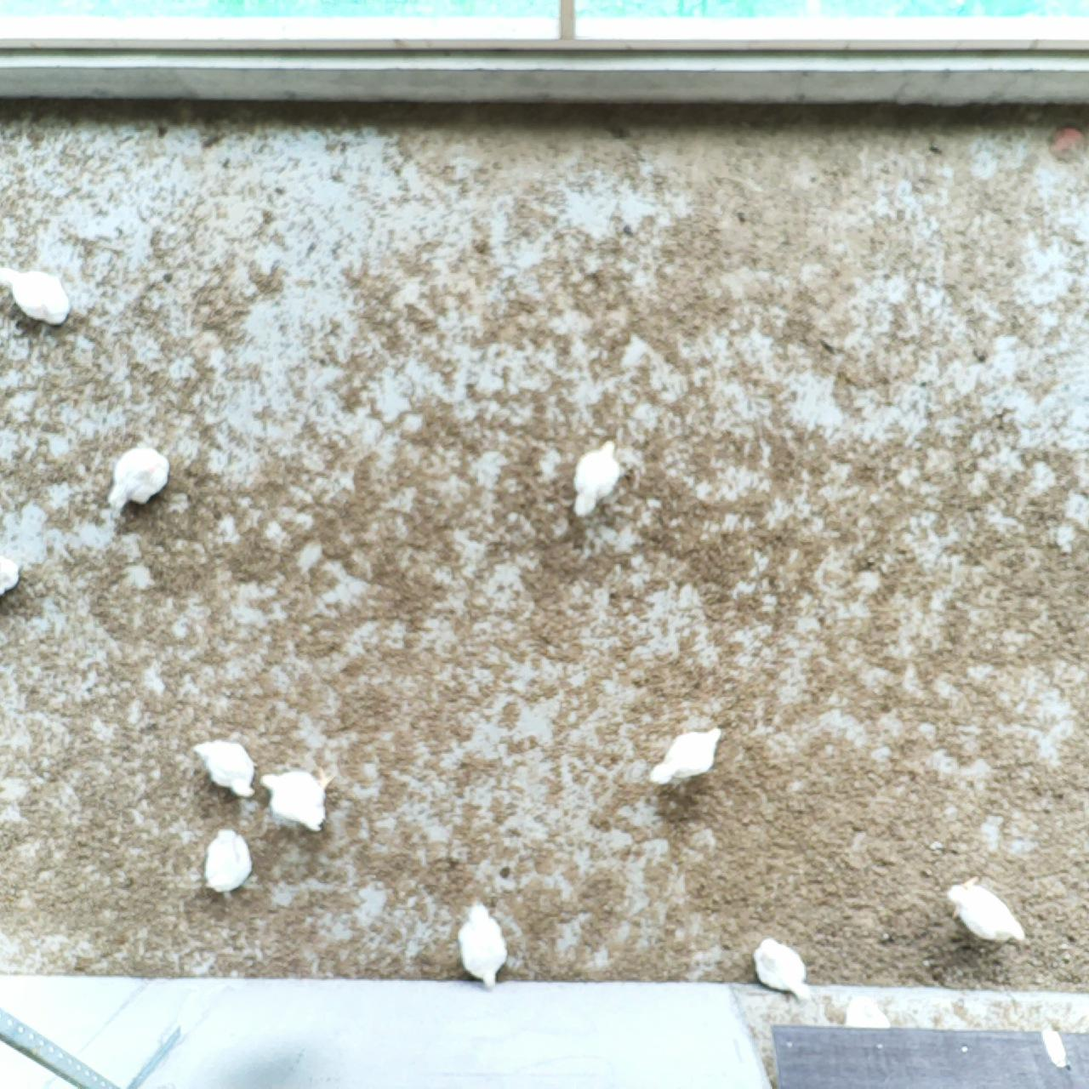chicken: (941, 871, 1033, 953), (261, 754, 337, 837), (454, 896, 511, 990), (648, 724, 729, 790), (188, 733, 261, 803), (568, 432, 624, 522), (106, 444, 176, 515), (0, 258, 71, 326), (750, 933, 815, 1002), (197, 825, 258, 896)
